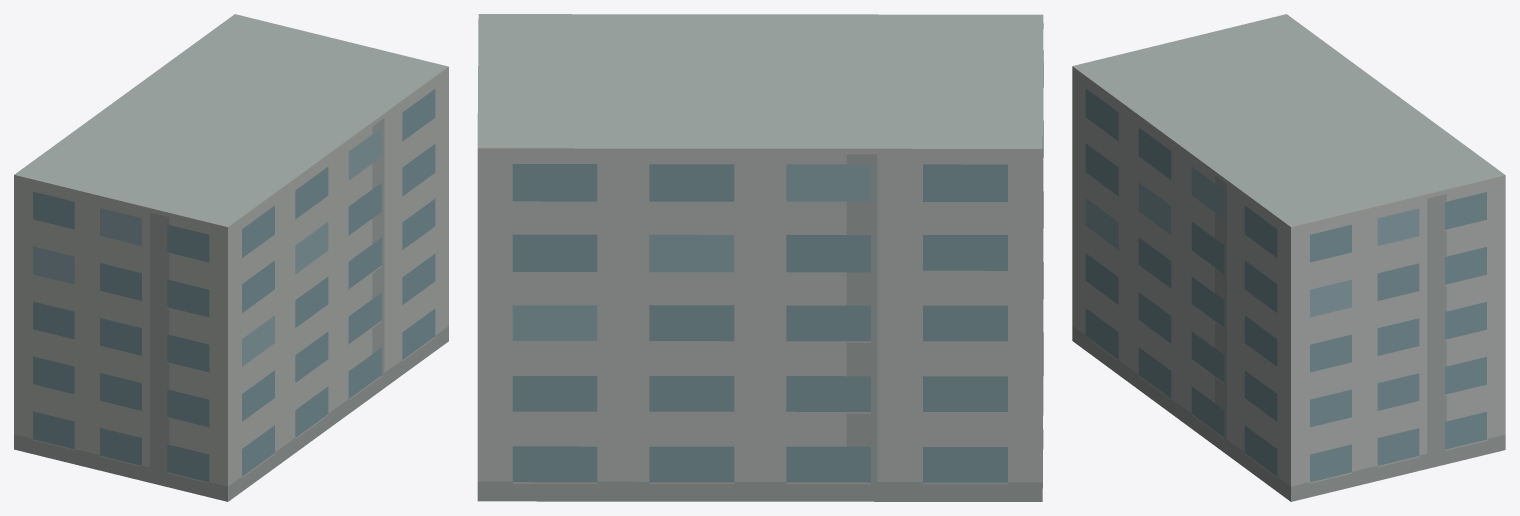
File: residential-56967fbf-53f8-4737-a030-99006d934010.glb
The picture shows the model from 3 angles, left to right: view 1: azimuth 30°, elevation 25°; view 2: azimuth 150°, elevation 25°; view 3: azimuth 270°, elevation 25°; orthographic projection. The views are drawn at different scales.
Visible parts, largest first — view 1: residential-56967fbf-53f8-4737-a030-99006d934010.tmp; view 2: residential-56967fbf-53f8-4737-a030-99006d934010.tmp; view 3: residential-56967fbf-53f8-4737-a030-99006d934010.tmp.
Boxes of the visible parts, bbox=[...] form: residential-56967fbf-53f8-4737-a030-99006d934010.tmp: bbox=[14, 14, 448, 501]; residential-56967fbf-53f8-4737-a030-99006d934010.tmp: bbox=[477, 14, 1043, 501]; residential-56967fbf-53f8-4737-a030-99006d934010.tmp: bbox=[1072, 14, 1505, 501].
Size of the model in its own units: 25.39 by 15.25 by 21.82.
